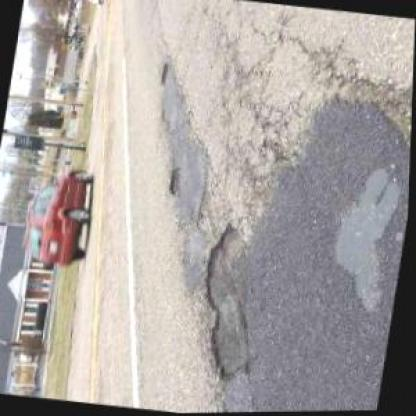pothole: (190, 219, 277, 387), (166, 164, 186, 196), (156, 60, 170, 86)
